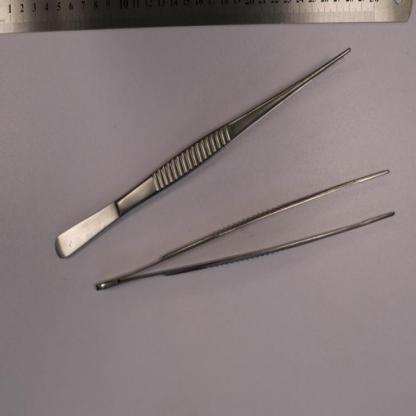DeBakey Dissector: (56, 49, 352, 259), (96, 168, 395, 290)
